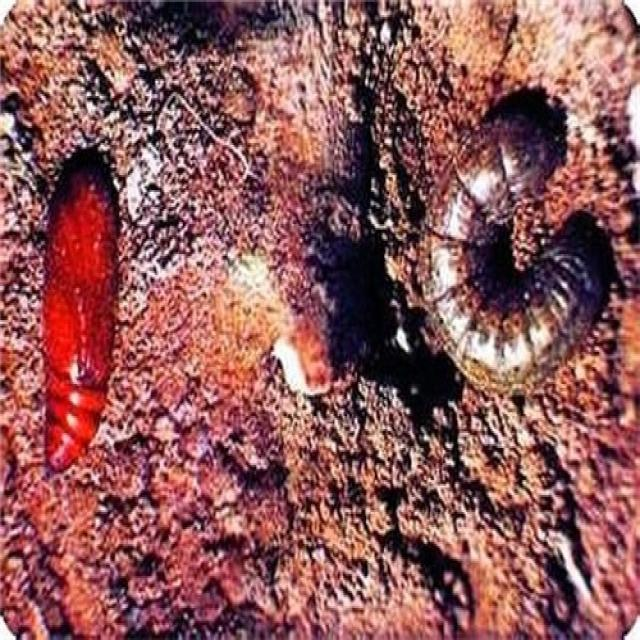black cutworm: (414, 87, 616, 405), (34, 154, 132, 489)
